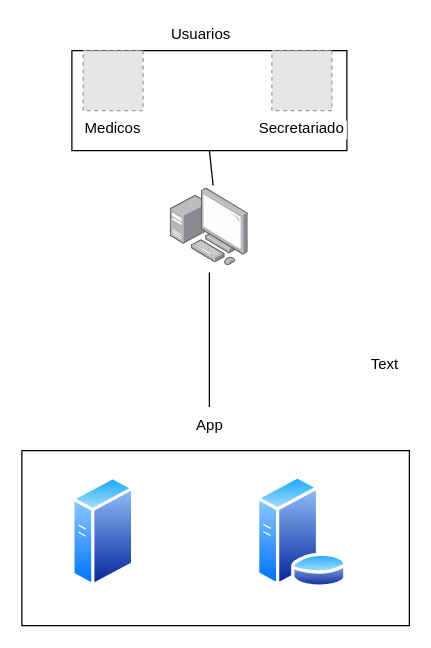
Image size: 431x648. Some labels were removed from this diagram. Grey dashed boxes stand in for pictures. Each missing label, with the centre of its shape:
Servidor Aplicación: pixel 102 531
Servidor Base de datos: pixel 301 531
